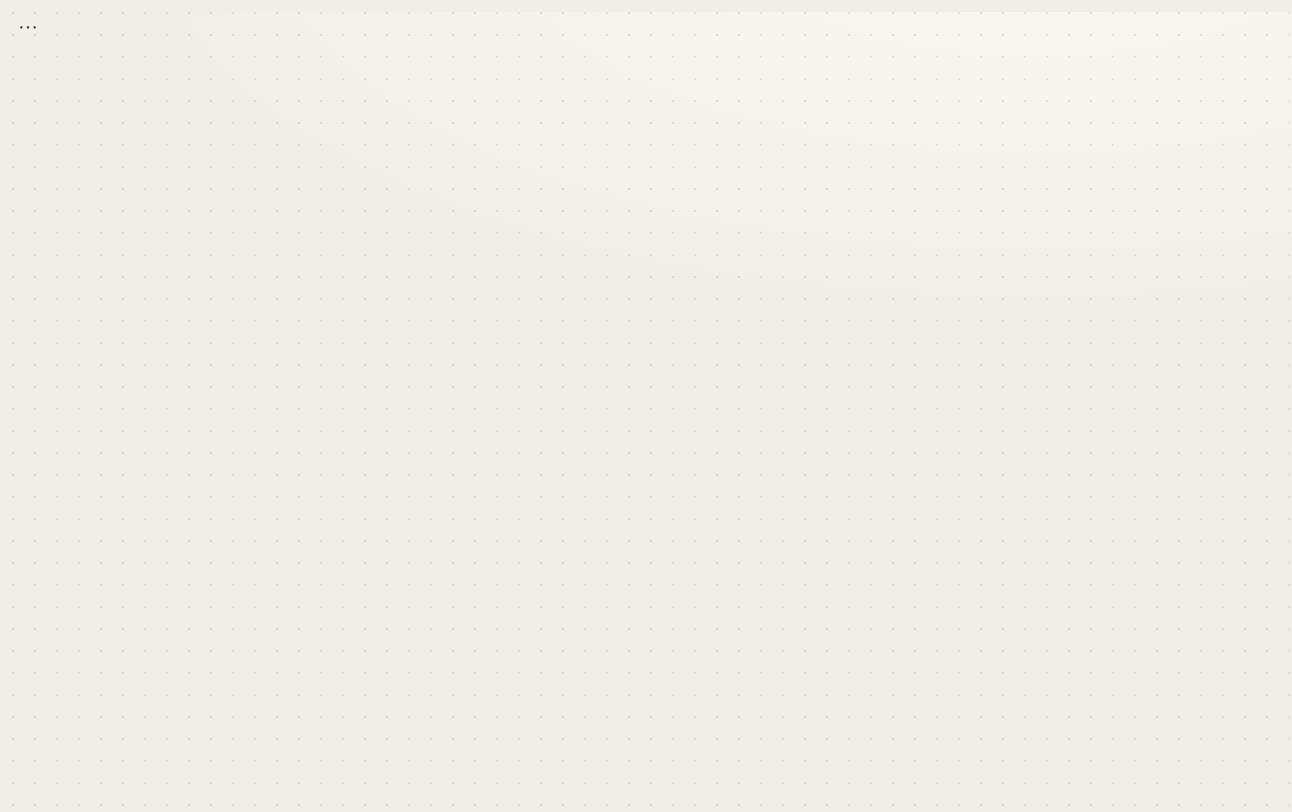
Test: BulkMenu › closes on a click outside and cannot open while disabled
Later steps or results of the test are not shown.
Click the button named "更多操作" at point(28, 28), box x1=12 y1=12 x2=44 y2=44
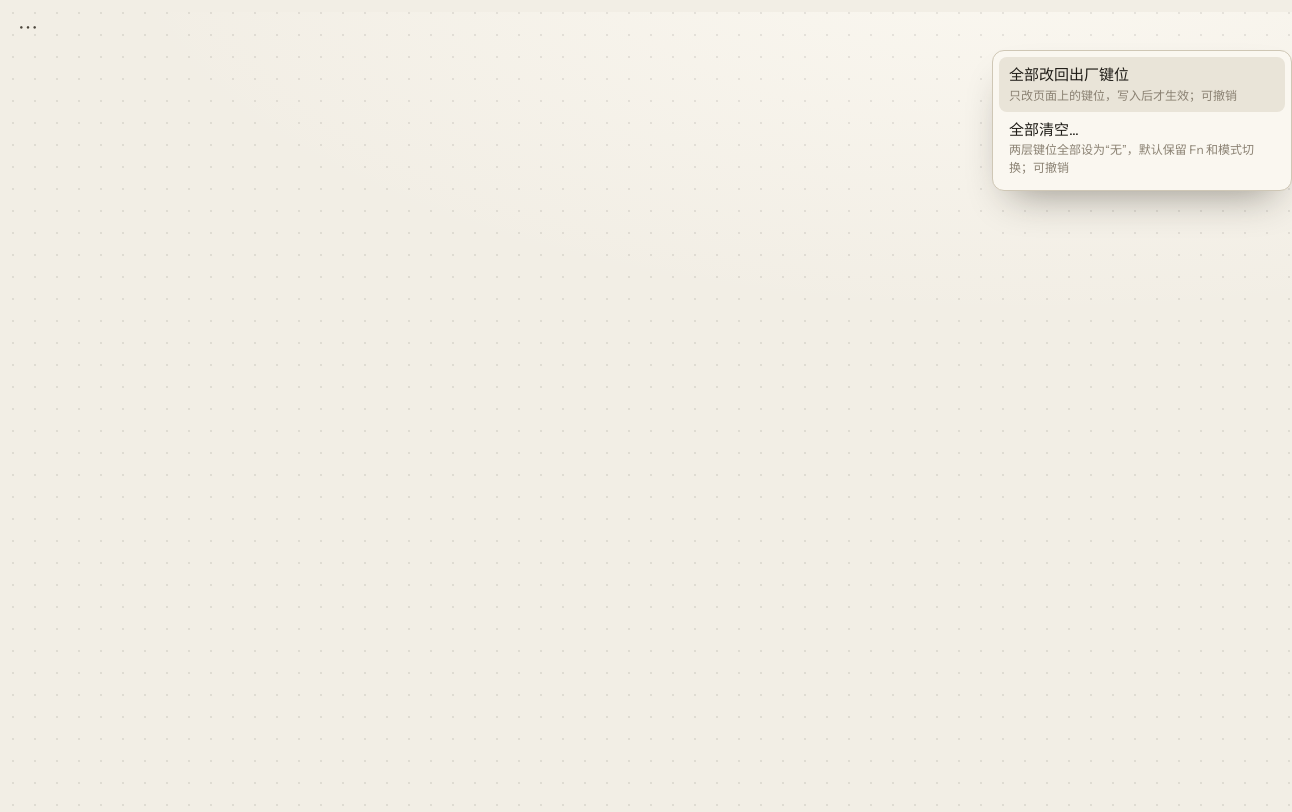
Press the mouse on the element that starts with "全部改回出厂键位" at point(652, 412), box x1=12 y1=12 x2=1291 y2=811
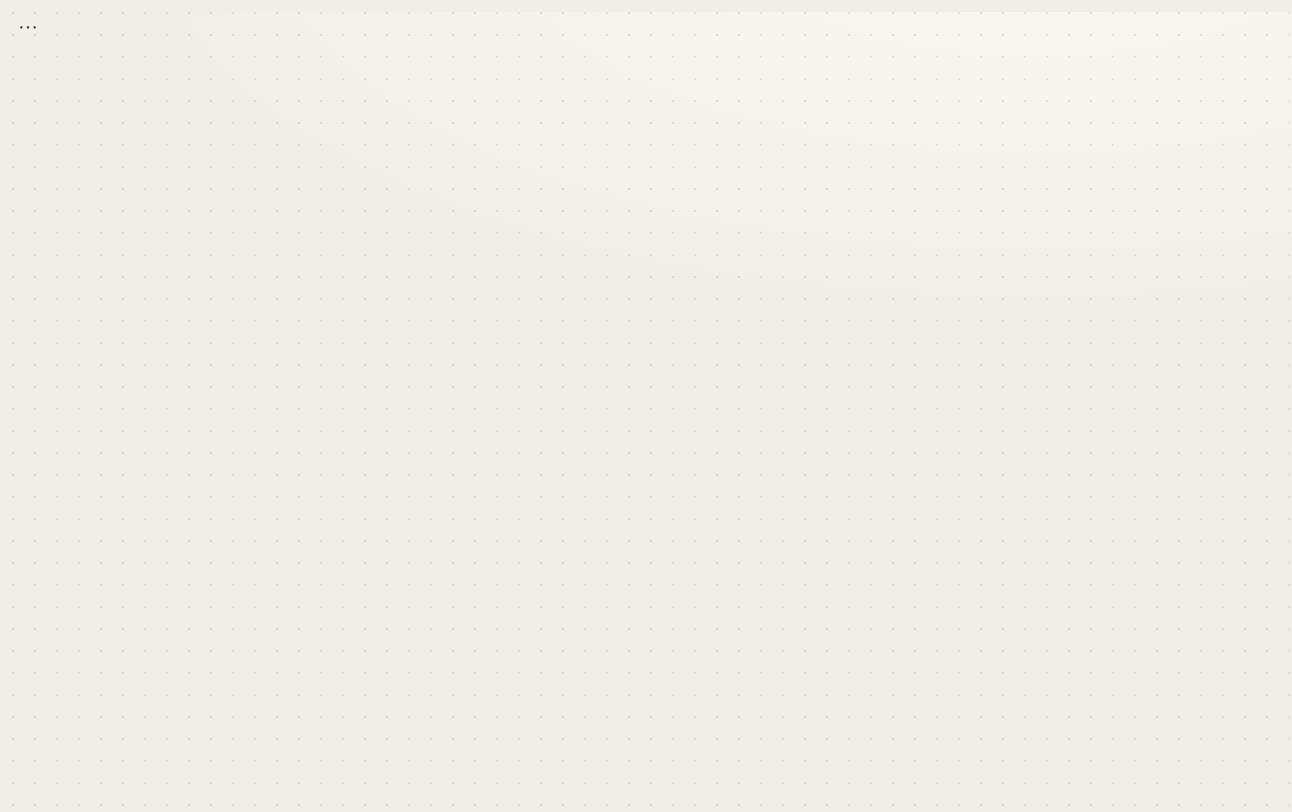
Now the menu is gone
